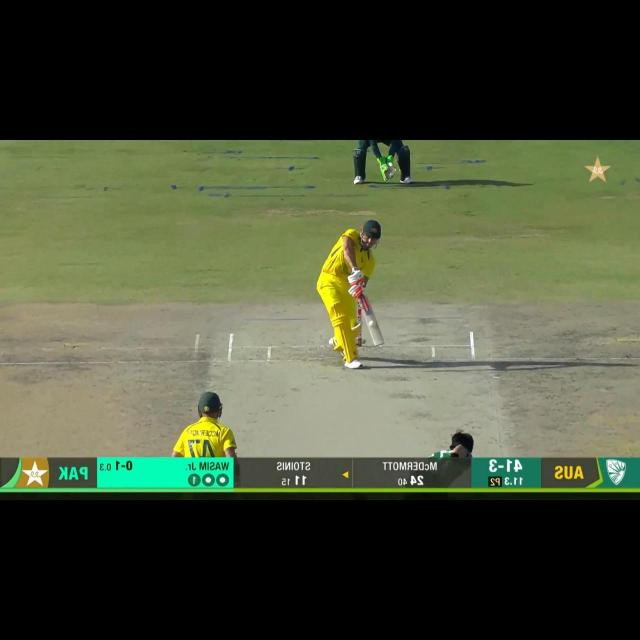bat: (356, 291, 384, 346)
toe: (373, 336, 388, 349)
